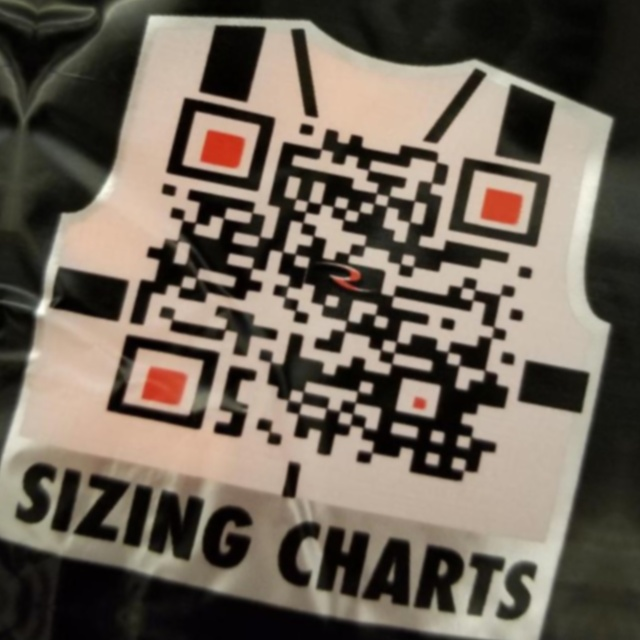qr-code: (95, 73, 574, 505)
